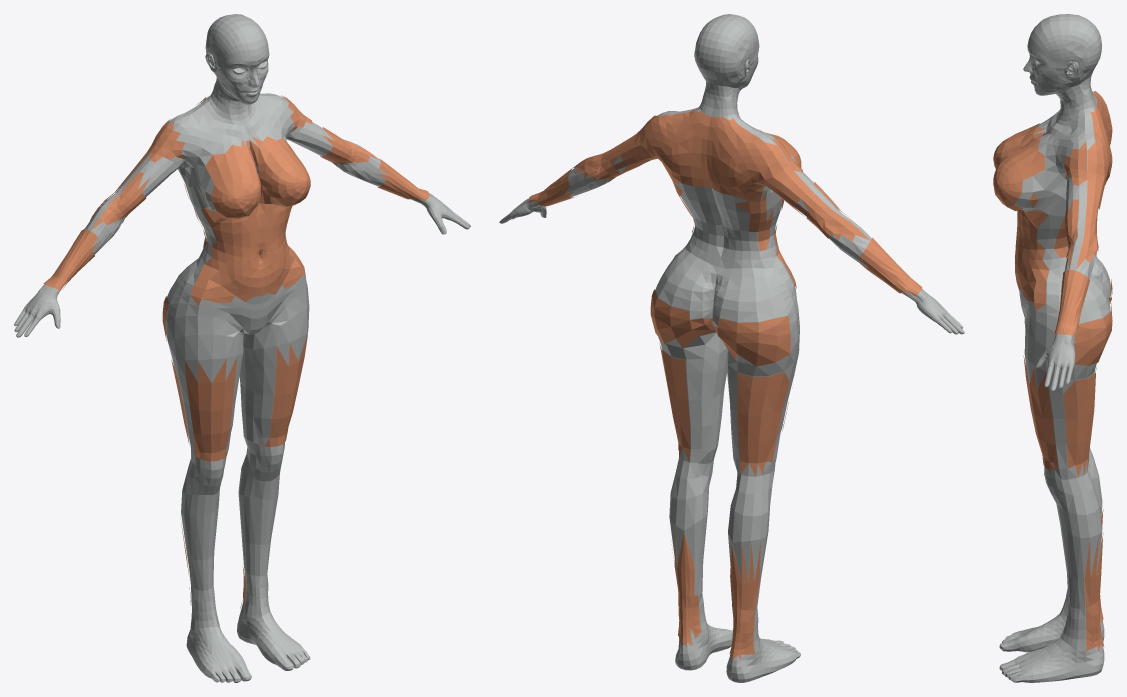
File: female-segmented.glb
3 views of the same model, side by side, from view 1: azimuth 30°, elevation 25°; view 2: azimuth 150°, elevation 25°; view 3: azimuth 270°, elevation 25° (orthographic).
Parts seen in each view (by area): view 1: body_surface, muscle__chest, muscle__quads, muscle__abs, muscle__forearms, muscle__biceps, muscle__shoulders; view 2: body_surface, muscle__traps, muscle__hamstrings, muscle__glutes, muscle__calves, muscle__triceps, muscle__lats, muscle__forearms, muscle__shoulders; view 3: body_surface, muscle__chest, muscle__hamstrings, muscle__abs, muscle__quads, muscle__calves, muscle__traps, muscle__forearms, muscle__glutes, muscle__shoulders, muscle__triceps, muscle__biceps (+1 smaller).
Part boxes in pixels (x1,y1,x2,y2): body_surface: [14, 14, 470, 682]; muscle__chest: [201, 136, 310, 265]; muscle__quads: [184, 335, 307, 461]; muscle__abs: [190, 218, 305, 305]; muscle__forearms: [43, 158, 429, 290]; muscle__biceps: [91, 127, 379, 230]; muscle__shoulders: [147, 95, 312, 162]; body_surface: [499, 14, 964, 682]; muscle__traps: [620, 109, 809, 206]; muscle__hamstrings: [659, 342, 789, 476]; muscle__glutes: [650, 289, 790, 366]; muscle__calves: [671, 526, 760, 659]; muscle__triceps: [573, 143, 870, 241]; muscle__lats: [616, 143, 806, 251]; muscle__forearms: [529, 168, 922, 297]; muscle__shoulders: [635, 115, 802, 182]; body_surface: [999, 14, 1111, 682]; muscle__chest: [993, 123, 1048, 257]; muscle__hamstrings: [1063, 367, 1096, 477]; muscle__abs: [1015, 220, 1049, 310]; muscle__quads: [1023, 356, 1057, 469]; muscle__calves: [1084, 509, 1104, 650]; muscle__traps: [1065, 91, 1112, 209]; muscle__forearms: [1054, 269, 1089, 337]; muscle__glutes: [1074, 279, 1112, 365]; muscle__shoulders: [1064, 142, 1107, 185]; muscle__triceps: [1076, 202, 1098, 269]; muscle__biceps: [1065, 199, 1078, 268].
Bounding box in the file's own units: 1.49 × 1.99 × 0.3337.
